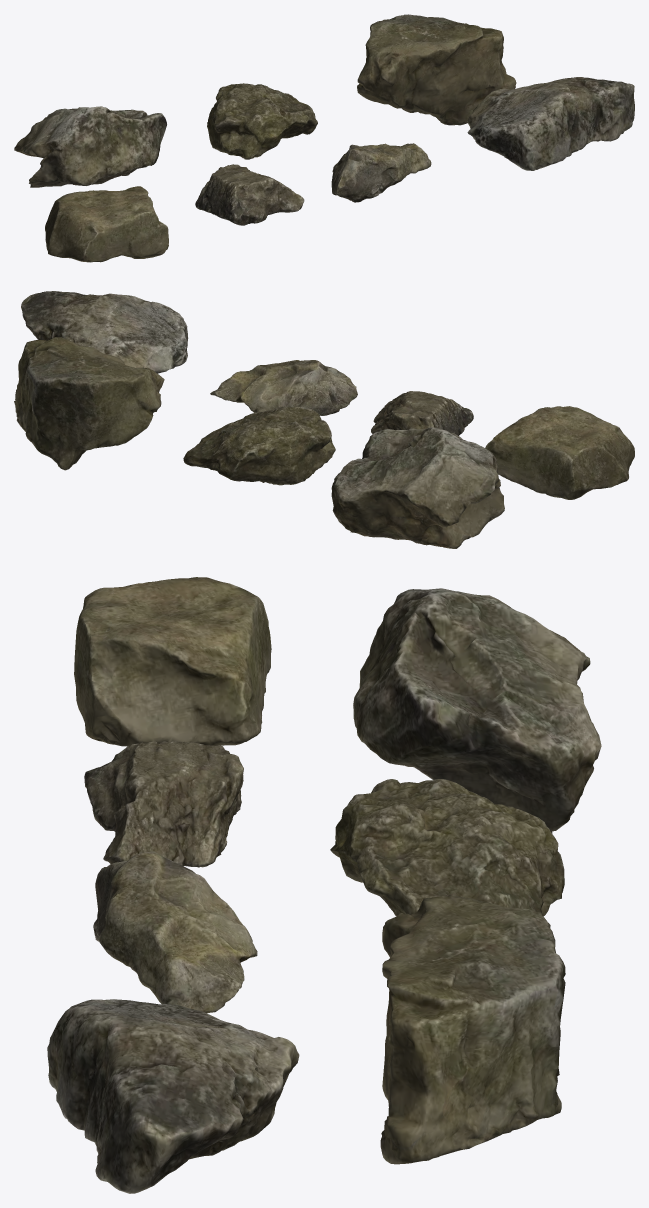
File: rock_moss_set_02.glb
3 renders of one model, top to bottom at view 1: azimuth 30°, elevation 25°; view 2: azimuth 150°, elevation 25°; view 3: azimuth 270°, elevation 25°, orthographic. The views are drawn at different scales.
Visible parts, largest first — view 1: rock_moss_set_02_rock13, rock_moss_set_02_rock10, rock_moss_set_02_rock11, rock_moss_set_02_rock07, rock_moss_set_02_rock12, rock_moss_set_02_rock08, rock_moss_set_02_rock09; view 2: rock_moss_set_02_rock11, rock_moss_set_02_rock13, rock_moss_set_02_rock07, rock_moss_set_02_rock10, rock_moss_set_02_rock12, rock_moss_set_02_rock09, rock_moss_set_02_rock08; view 3: rock_moss_set_02_rock13, rock_moss_set_02_rock11, rock_moss_set_02_rock10, rock_moss_set_02_rock07, rock_moss_set_02_rock12, rock_moss_set_02_rock09, rock_moss_set_02_rock08.
Part boxes in pixels (box(x1,y1,x2,y2)): rock_moss_set_02_rock13: box(357, 14, 516, 125); rock_moss_set_02_rock10: box(467, 77, 634, 170); rock_moss_set_02_rock11: box(14, 106, 166, 187); rock_moss_set_02_rock07: box(45, 186, 168, 262); rock_moss_set_02_rock12: box(207, 83, 317, 159); rock_moss_set_02_rock08: box(195, 164, 304, 225); rock_moss_set_02_rock09: box(331, 143, 431, 202); rock_moss_set_02_rock11: box(331, 427, 504, 548); rock_moss_set_02_rock13: box(14, 337, 164, 470); rock_moss_set_02_rock07: box(485, 406, 634, 499); rock_moss_set_02_rock10: box(21, 291, 188, 373); rock_moss_set_02_rock12: box(183, 406, 335, 485); rock_moss_set_02_rock09: box(210, 360, 357, 415); rock_moss_set_02_rock08: box(371, 391, 473, 435); rock_moss_set_02_rock13: box(380, 895, 565, 1164); rock_moss_set_02_rock11: box(353, 588, 601, 833); rock_moss_set_02_rock10: box(47, 999, 299, 1193); rock_moss_set_02_rock07: box(74, 577, 271, 746); rock_moss_set_02_rock12: box(330, 779, 564, 927); rock_moss_set_02_rock09: box(93, 851, 257, 1013); rock_moss_set_02_rock08: box(84, 741, 243, 867).
Size of the model in its own units: 8.28 by 1.37 by 3.41.
1 material, 1 textured.
